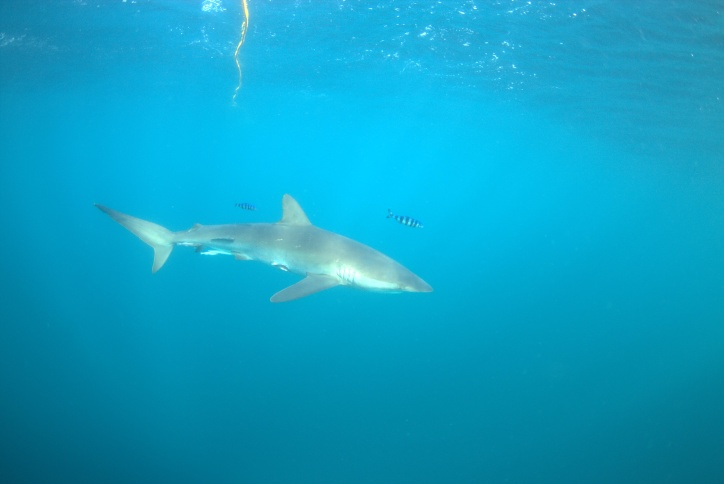Sedoso: (62, 181, 452, 314)
